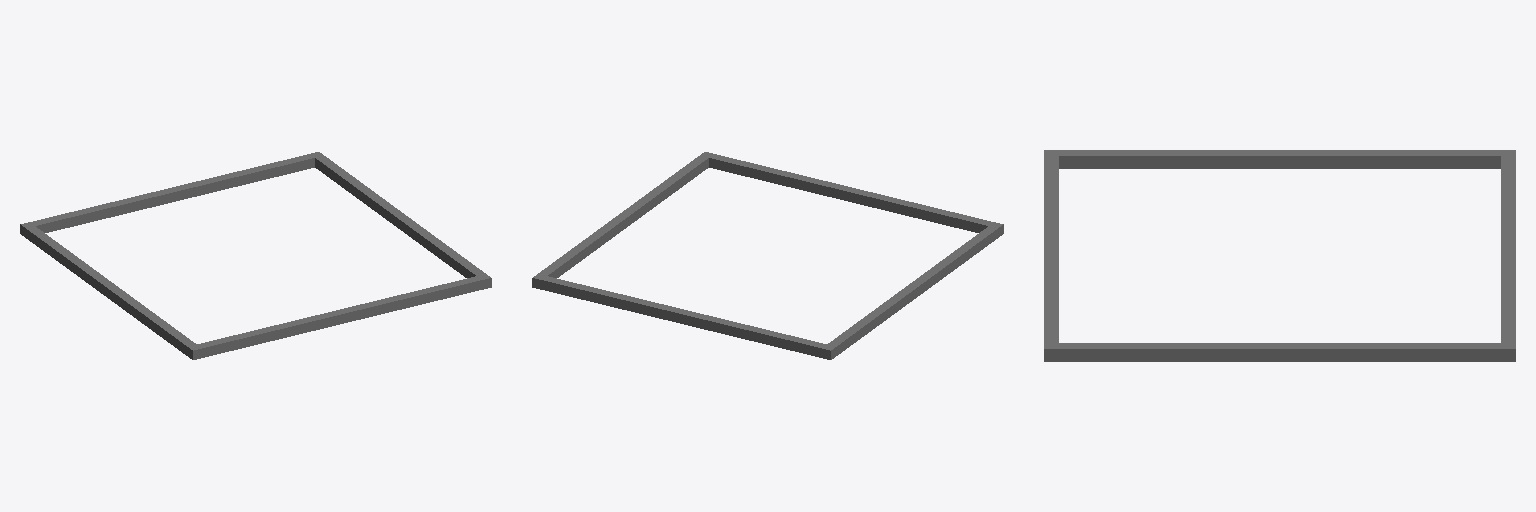
robot.urdf — plane:
<?xml version="0.0" ?>
<robot name="plane">
  <link name="planeLink">
  <contact>
      <lateral_friction value="1"/>
  </contact>
    <inertial>
      <origin rpy="0 0 0" xyz="0 0 0"/>
       <mass value=".0"/>
       <inertia ixx="0" ixy="0" ixz="0" iyy="0" iyz="0" izz="0"/>
    </inertial>
    <visual>
      <origin rpy="0 0 0" xyz="0 0 0"/>
      <geometry>
				<mesh filename="plane100.obj" scale="1 1 1"/>
      </geometry>
       <material name="white">
        <color rgba="1 1 1 1"/>
      </material>
    </visual>
    <collision>
      <origin rpy="0 0 0" xyz="0 0 -5"/>
      <geometry>
	 	<box size="200 200 10"/>
      </geometry>
    </collision>
  </link>

  <joint name="wall_1_joint" type="fixed">
    <origin rpy="0 0 0" xyz="0 0 0.05"/>
    <parent link="planeLink"/>
    <child link="wall_1"/>
  </joint>

  <link name="wall_1">
  	<visual>
      <origin rpy="0 0 0" xyz="0 7.75 0"/>
      <geometry>
	 	<box size="16 0.5 0.5"/>
      </geometry>
      <material name="grey">
	    <color rgba="0.5 0.5 0.5 0.8"/>
	  </material>
    </visual>
    <collision>
      <origin rpy="0 0 0" xyz="0 7.75 0"/>
      <geometry>
	 	<box size="16 0.5 0.5"/>
      </geometry>
    </collision>
  </link>

  <joint name="wall_2_joint" type="fixed">
    <origin rpy="0 0 0" xyz="0 0 0.05"/>
    <parent link="planeLink"/>
    <child link="wall_2"/>
  </joint>

  <link name="wall_2">
  	<visual>
      <origin rpy="0 0 0" xyz="0 -7.75 0"/>
      <geometry>
	 	<box size="16 0.5 0.5"/>
      </geometry>
      <material name="grey">
	    <color rgba="0.5 0.5 0.5 0.8"/>
	  </material>
    </visual>
    <collision>
      <origin rpy="0 0 0" xyz="0 -7.75 0"/>
      <geometry>
	 	<box size="16 0.5 0.5"/>
      </geometry>
    </collision>
  </link>

  <joint name="wall_3_joint" type="fixed">
    <origin rpy="0 0 0" xyz="0 0 0.05"/>
    <parent link="planeLink"/>
    <child link="wall_3"/>
  </joint>

  <link name="wall_3">
  	<visual>
      <origin rpy="0 0 0" xyz="7.75 0 0"/>
      <geometry>
	 	<box size="0.5 15 0.5"/>
      </geometry>
      <material name="grey">
	    <color rgba="0.5 0.5 0.5 0.8"/>
	  </material>
    </visual>
    <collision>
      <origin rpy="0 0 0" xyz="7.75 0 0"/>
      <geometry>
	 	<box size="0.5 15 0.5"/>
      </geometry>
    </collision>
  </link>

  <joint name="wall_4_joint" type="fixed">
    <origin rpy="0 0 0" xyz="0 0 0.05"/>
    <parent link="planeLink"/>
    <child link="wall_4"/>
  </joint>

  <link name="wall_4">
  	<visual>
      <origin rpy="0 0 0" xyz="-7.75 0 0"/>
      <geometry>
	 	<box size="0.5 15 0.5"/>
      </geometry>
      <material name="grey">
	    <color rgba="0.5 0.5 0.5 0.8"/>
	  </material>
    </visual>
    <collision>
      <origin rpy="0 0 0" xyz="-7.75 0 0"/>
      <geometry>
	 	<box size="0.5 15 0.5"/>
      </geometry>
    </collision>
  </link>

</robot>

--- Facts derived from the render (not from the file) ---
The picture shows the robot from 3 angles, left to right: view 1: azimuth 30°, elevation 25°; view 2: azimuth 150°, elevation 25°; view 3: azimuth 270°, elevation 25°; orthographic projection.
Robot: plane — 5 links, 4 joints (4 fixed); root link planeLink; default pose: all joints at 0.
Links seen in each view (by area): view 1: wall_2, wall_1, wall_4, wall_3; view 2: wall_1, wall_2, wall_4, wall_3; view 3: wall_3, wall_4, wall_1, wall_2.
Link boxes in pixels (<box>): wall_2: <box>188,274,491,359</box>; wall_1: <box>20,152,323,237</box>; wall_4: <box>26,226,196,355</box>; wall_3: <box>315,156,485,277</box>; wall_1: <box>532,274,835,359</box>; wall_2: <box>700,152,1003,237</box>; wall_4: <box>827,226,997,355</box>; wall_3: <box>538,156,708,277</box>; wall_3: <box>1059,343,1500,361</box>; wall_4: <box>1059,150,1500,168</box>; wall_1: <box>1501,150,1515,361</box>; wall_2: <box>1044,150,1058,361</box>.
Size in the robot's own frame: 16 by 16 by 0.5 metres.
0 mesh visuals loaded from 1 distinct referenced files (none loaded); not drawn: 1 (reference not matched to a file when rendering).